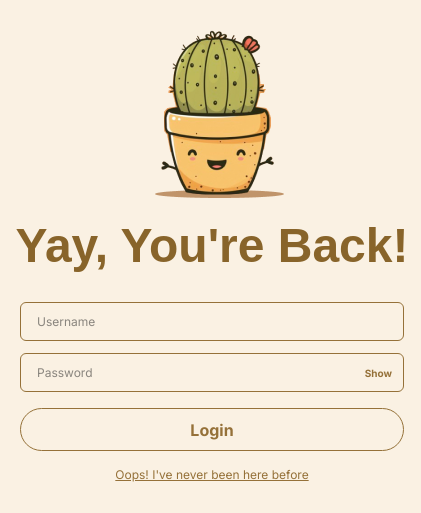
LoginPage › shows a generic error on non-401 failures
Type "testuser" into the field with placeholder "Username" at (212, 322), box left=20, top=302, right=404, bottom=341
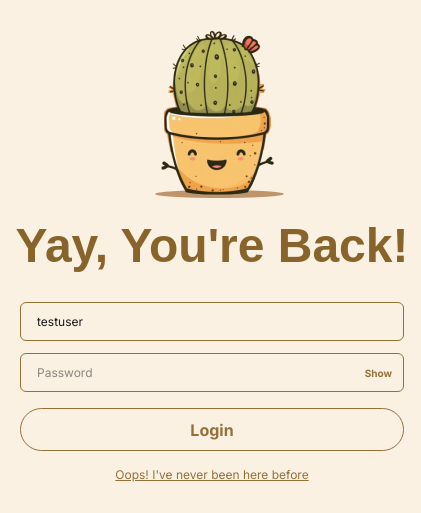
Type "secret" into the password field with placeholder "Password" at (212, 372), box left=20, top=353, right=404, bottom=392
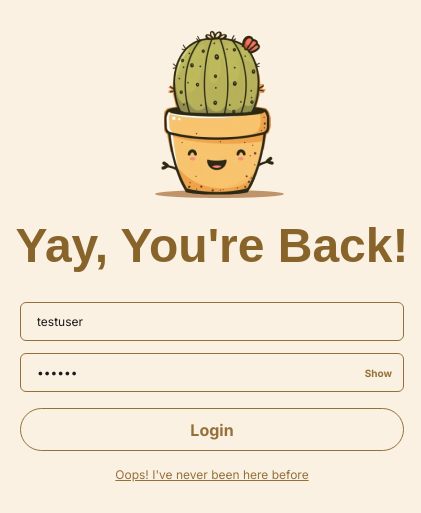
Click the button "Login" at (212, 430), box left=20, top=408, right=404, bottom=451
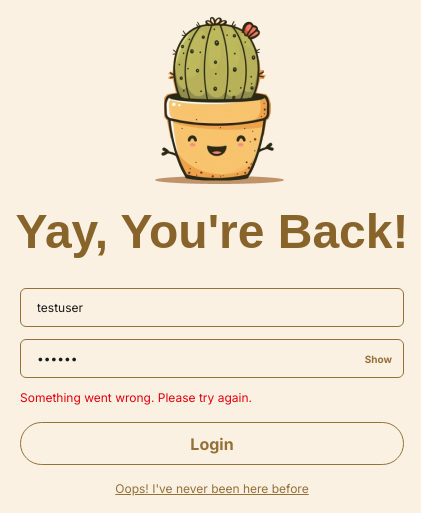
expect the text "Something went wrong. Please try again." is shown: met, box left=20, top=390, right=252, bottom=405
